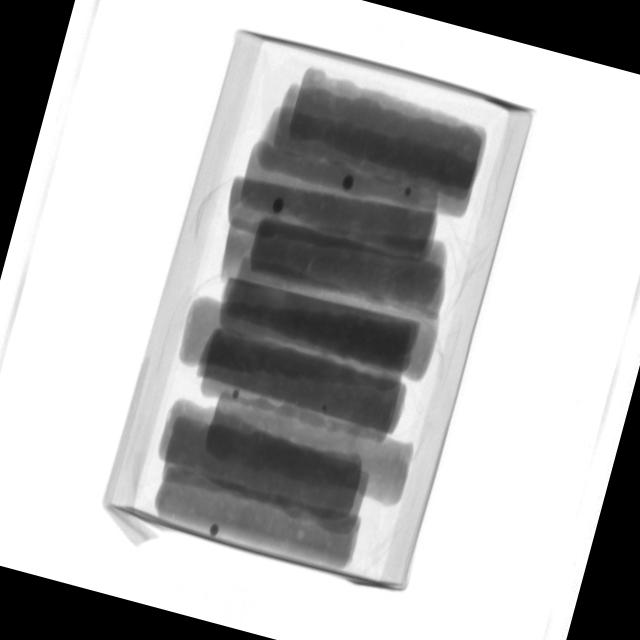ym: (342, 175, 357, 193), (272, 197, 287, 215), (211, 523, 223, 537), (402, 187, 412, 199), (231, 390, 240, 401), (322, 404, 329, 411)
